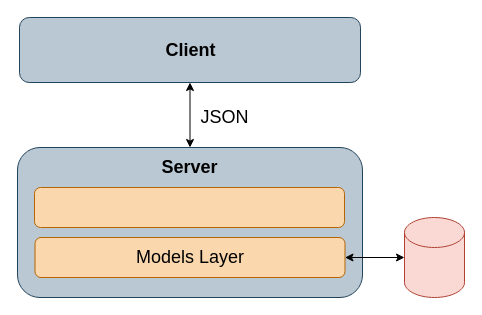
Image size: 482x315. Some labels were removed from this diagram. Here are the shapes that lost their labels. From the top down, the centre of each, then its label:
pixel 189 207: Controllers Layer
pixel 434 257: DB
